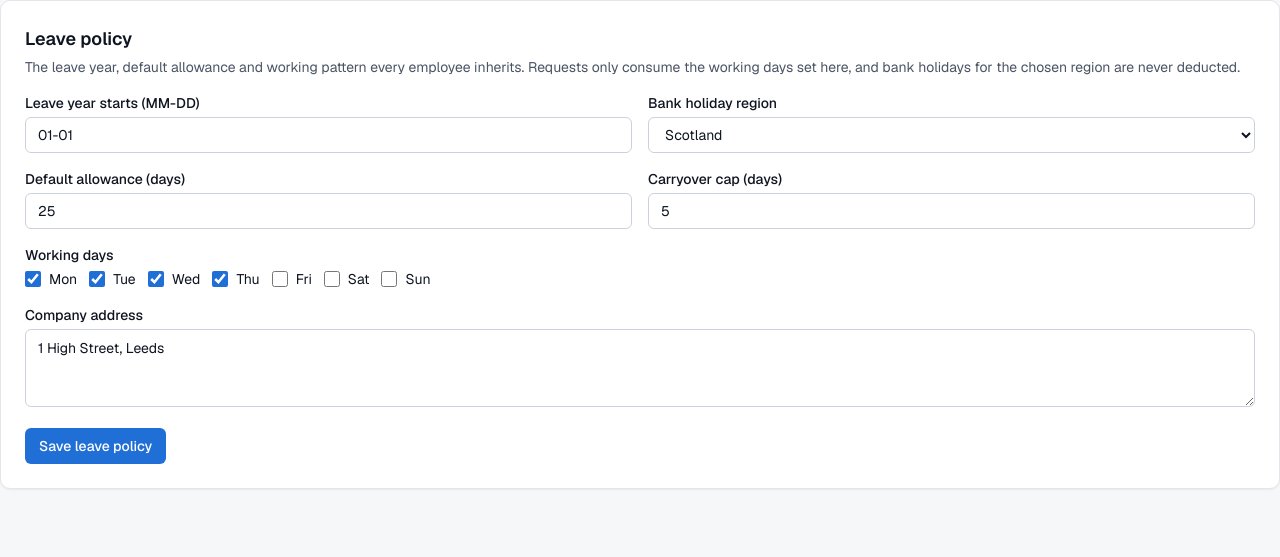
Test case: LeavePolicyCard › saves the whole form, including a toggled working day
Replace the text in the field showing "01-01" with "04-06". click: {"x": 328, "y": 135}
box: [25,117,632,153]
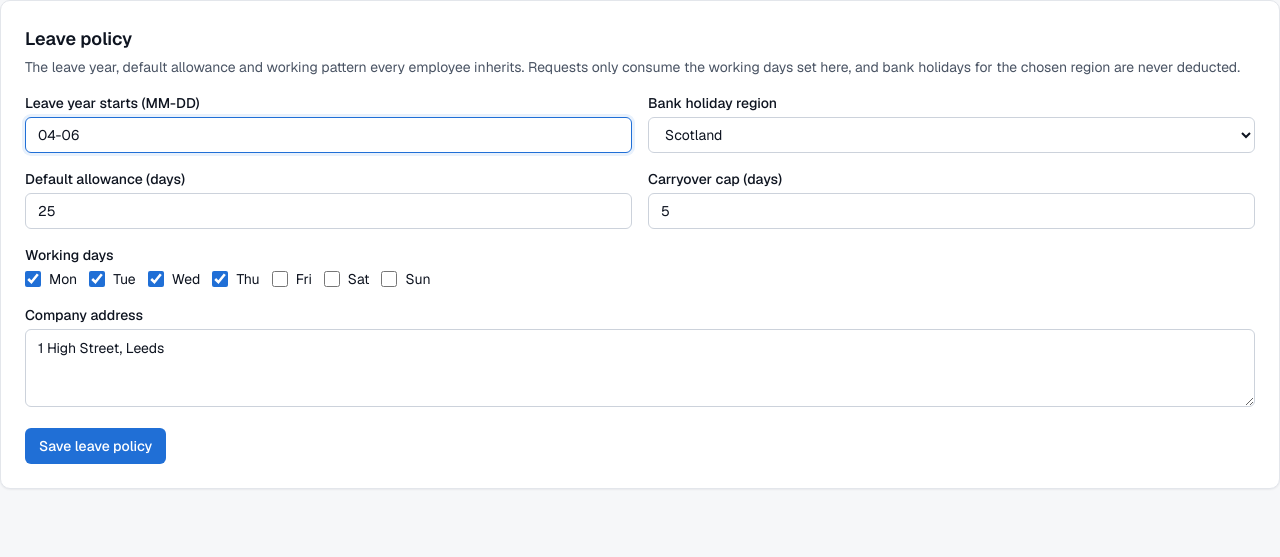
Click the checkbox labelled "Fri". click: {"x": 280, "y": 279}
box: [272,271,288,287]
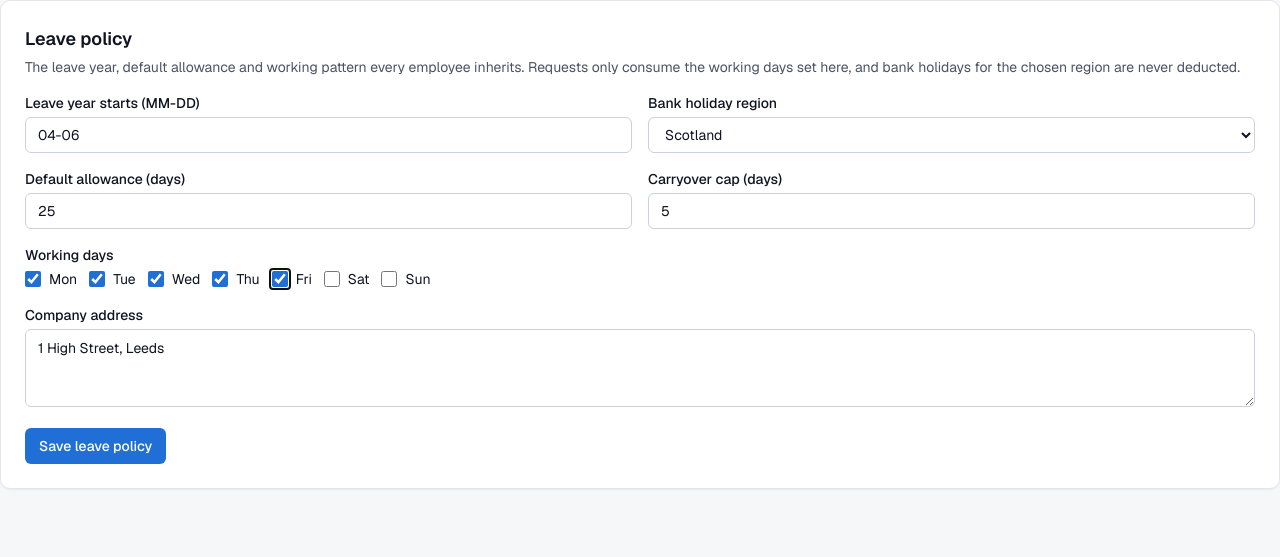
Select "England and Wales" in the dropdown showing "Scotland". click: {"x": 952, "y": 135}
box: [648,117,1255,153]
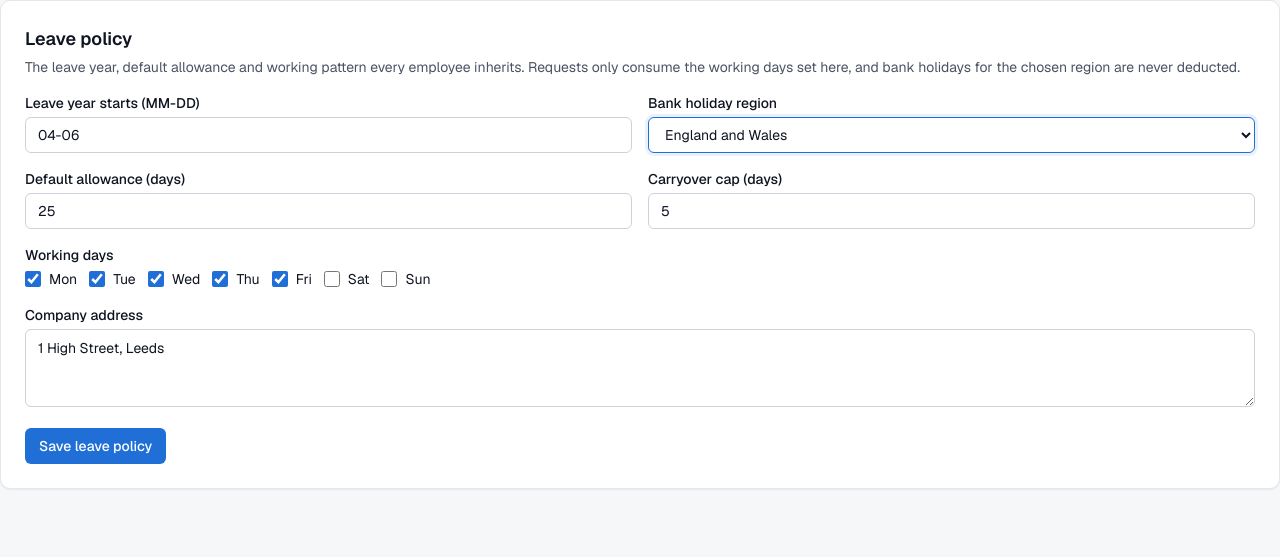
Click the button "Save leave policy". click: {"x": 96, "y": 446}
box: [25,428,166,464]
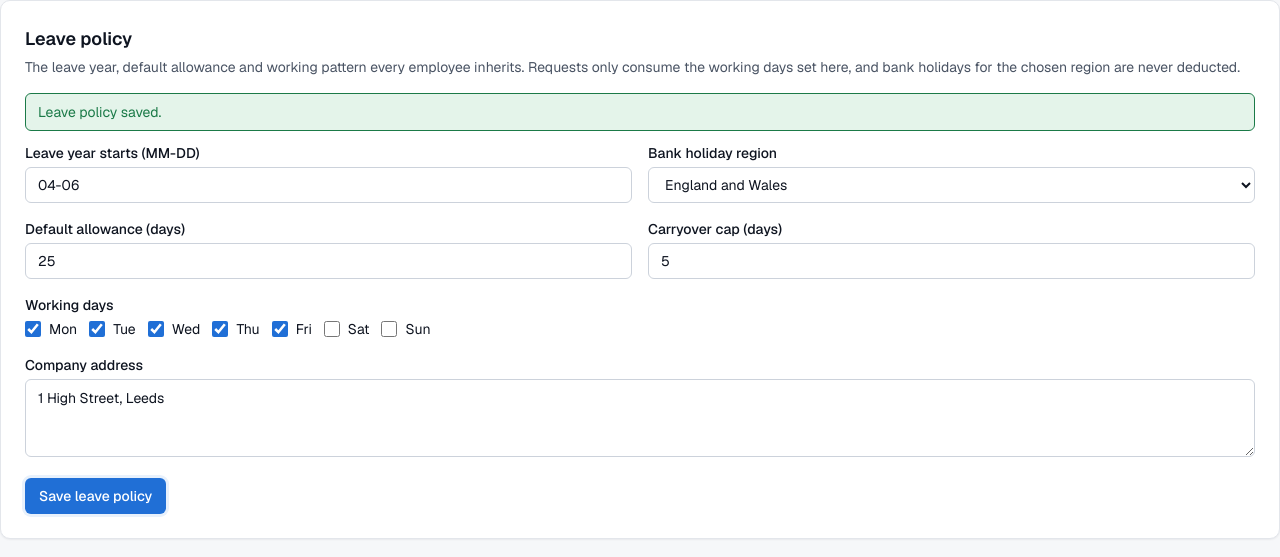
Now the text "Leave policy saved." is shown, box [25,93,1255,131]
